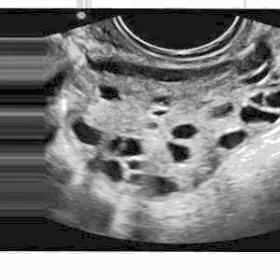PCOS: (84, 152, 125, 180), (68, 118, 105, 149), (239, 102, 279, 128), (215, 128, 250, 150), (170, 120, 202, 142), (96, 82, 126, 105), (164, 141, 192, 165), (150, 174, 178, 198), (208, 100, 236, 120), (121, 137, 146, 156), (263, 90, 280, 110), (150, 93, 172, 107), (109, 134, 123, 153), (126, 158, 144, 171), (250, 91, 265, 105), (144, 119, 160, 132), (150, 109, 169, 118), (131, 172, 143, 184)
